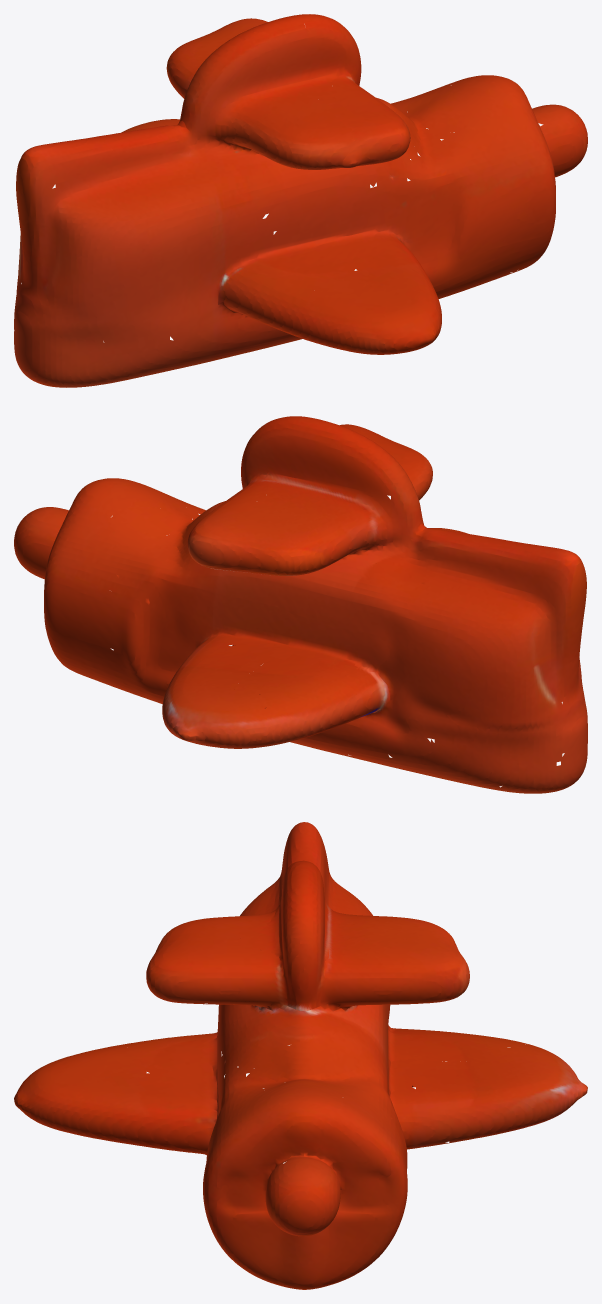
3 views of the same model, one above another, from view 1: azimuth 30°, elevation 25°; view 2: azimuth 150°, elevation 25°; view 3: azimuth 270°, elevation 25° (orthographic). The views are drawn at different scales.
Visible parts, largest first — view 1: tripo_node_55f955ac-7fa5-4b65-bf97-0a181ff9dd5e.001; view 2: tripo_node_55f955ac-7fa5-4b65-bf97-0a181ff9dd5e.001; view 3: tripo_node_55f955ac-7fa5-4b65-bf97-0a181ff9dd5e.001.
Boxes of the visible parts, <box> form: tripo_node_55f955ac-7fa5-4b65-bf97-0a181ff9dd5e.001: <box>14,14,587,387</box>; tripo_node_55f955ac-7fa5-4b65-bf97-0a181ff9dd5e.001: <box>14,416,587,793</box>; tripo_node_55f955ac-7fa5-4b65-bf97-0a181ff9dd5e.001: <box>14,822,587,1289</box>.
Bounding box in the file's own units: 0.3293 × 0.1721 × 0.285.
Materials: 1 (1 with a texture image).
